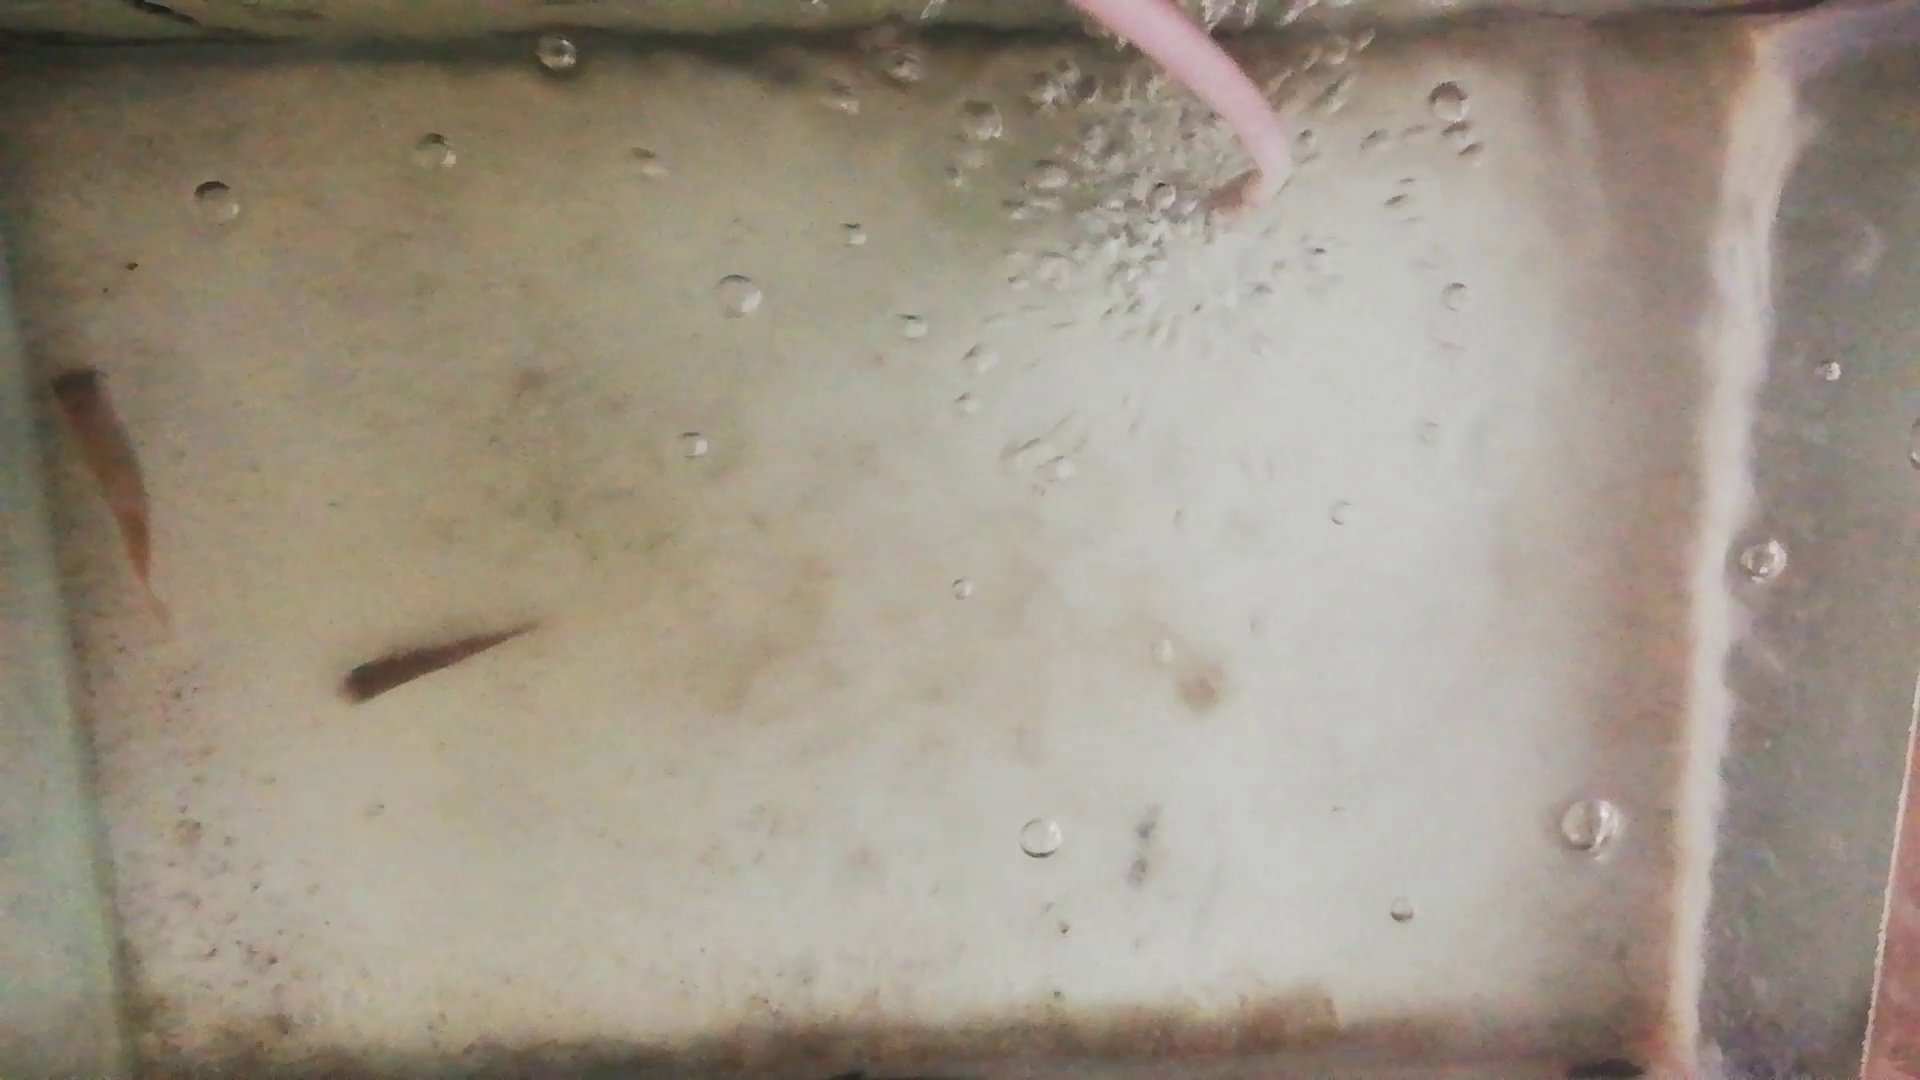fish: (54, 360, 156, 588), (345, 622, 534, 705)
